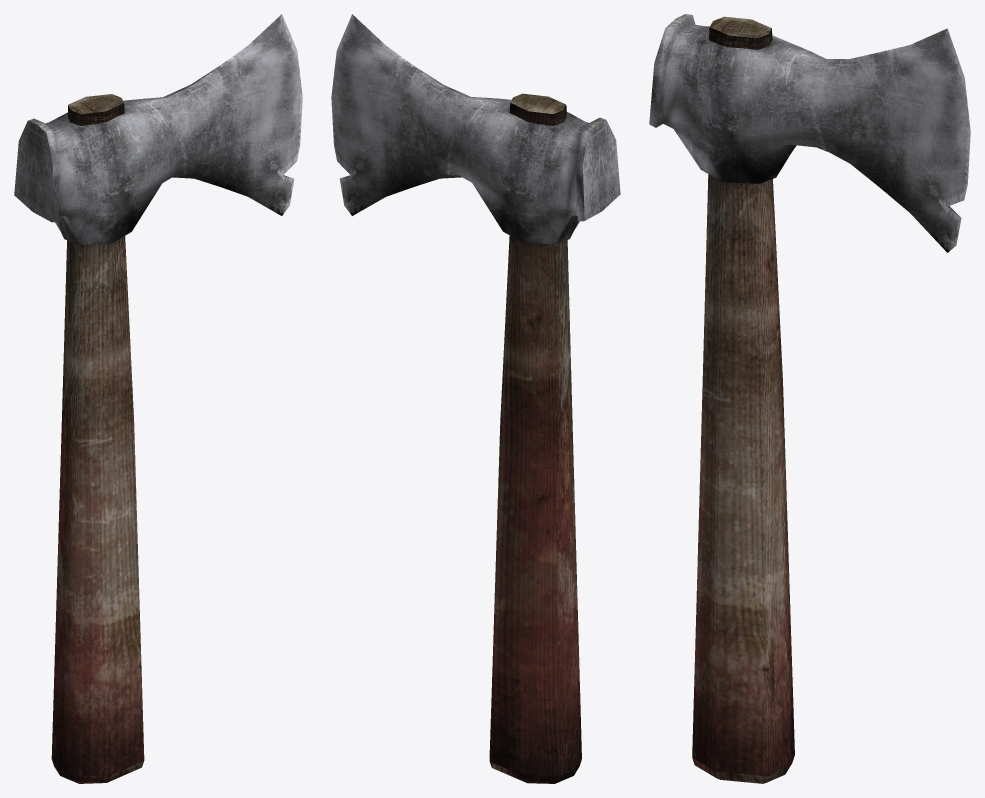
The model's file is axe.obj.
The picture shows the model from 3 angles, left to right: view 1: azimuth 30°, elevation 25°; view 2: azimuth 150°, elevation 25°; view 3: azimuth 330°, elevation 25°; orthographic projection. The views are drawn at different scales.
Parts seen in each view (by area): view 1: Axe_Tomahawk; view 2: Axe_Tomahawk; view 3: Axe_Tomahawk.
Part boxes in pixels (x1,y1,x2,y2): Axe_Tomahawk: (14, 14, 302, 783); Axe_Tomahawk: (331, 14, 620, 783); Axe_Tomahawk: (649, 14, 970, 783).
Bounding box in the file's own units: 19.47 × 49.37 × 5.01.
